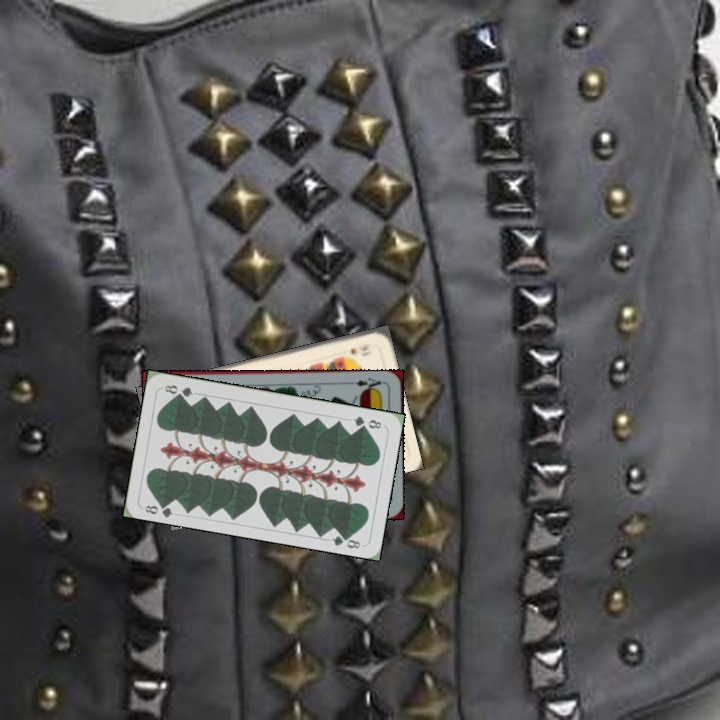EA: (346, 374, 386, 393)
G8: (141, 497, 176, 519), (349, 412, 384, 431)
S10: (346, 340, 373, 357)
